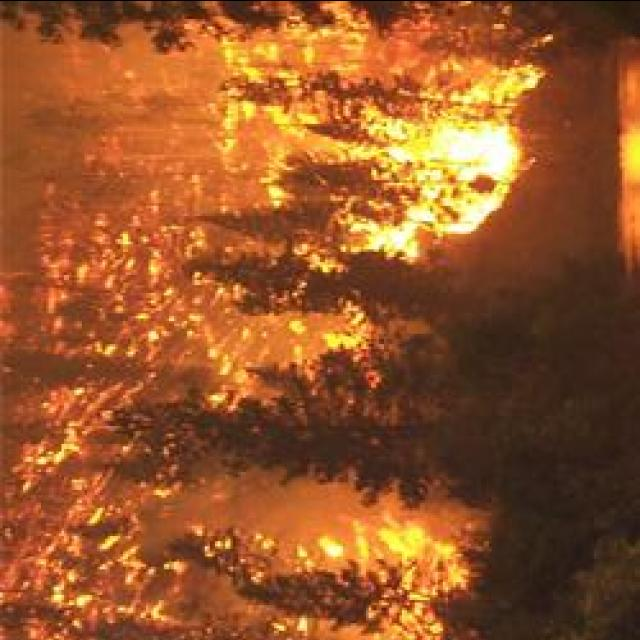fire: (371, 96, 526, 232)
